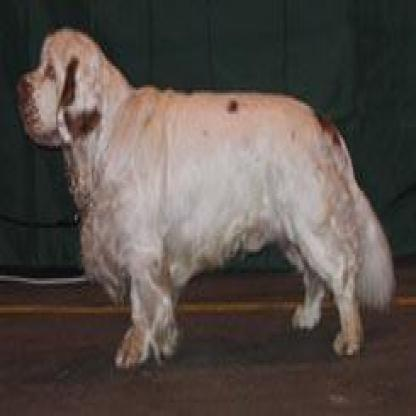clumber: (7, 13, 390, 355)
